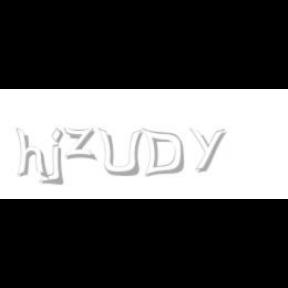D: (142, 128, 184, 178)
U: (98, 128, 142, 178)
h: (15, 128, 50, 180)
j: (48, 128, 78, 186)
y: (189, 128, 229, 172)
z: (63, 128, 99, 160)
